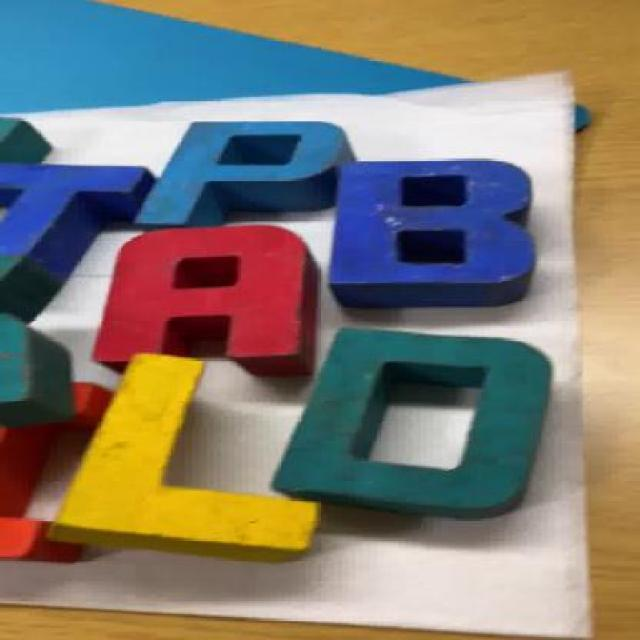A: (104, 229, 319, 369)
B: (318, 157, 538, 300)
D: (293, 327, 550, 519)
L: (48, 354, 341, 548)
P: (138, 120, 351, 234)
